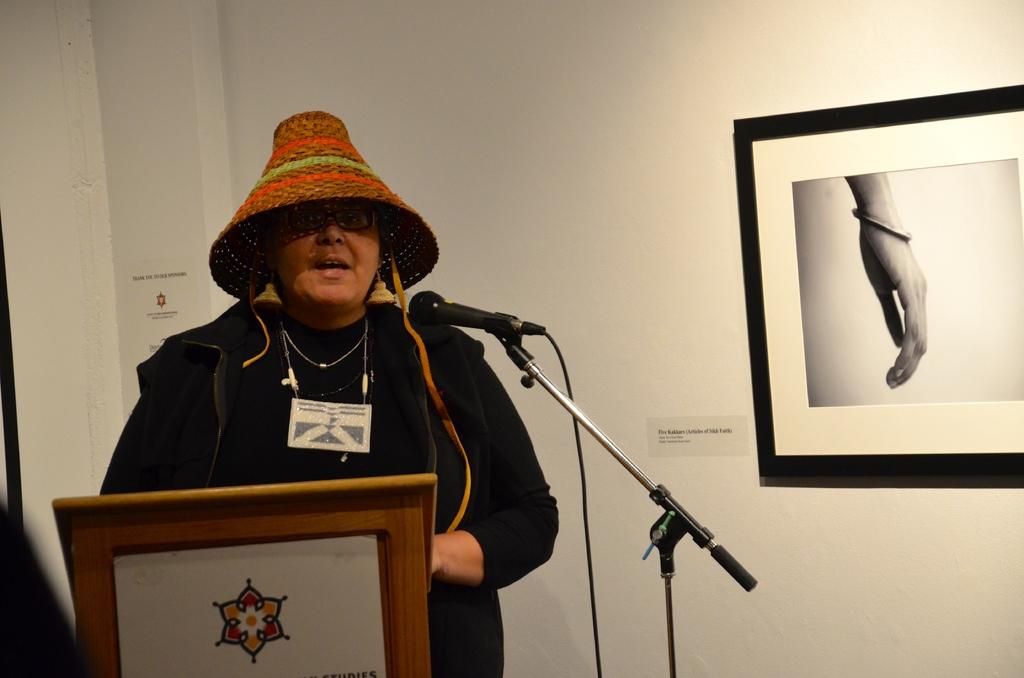Hat: (208, 110, 474, 532)
